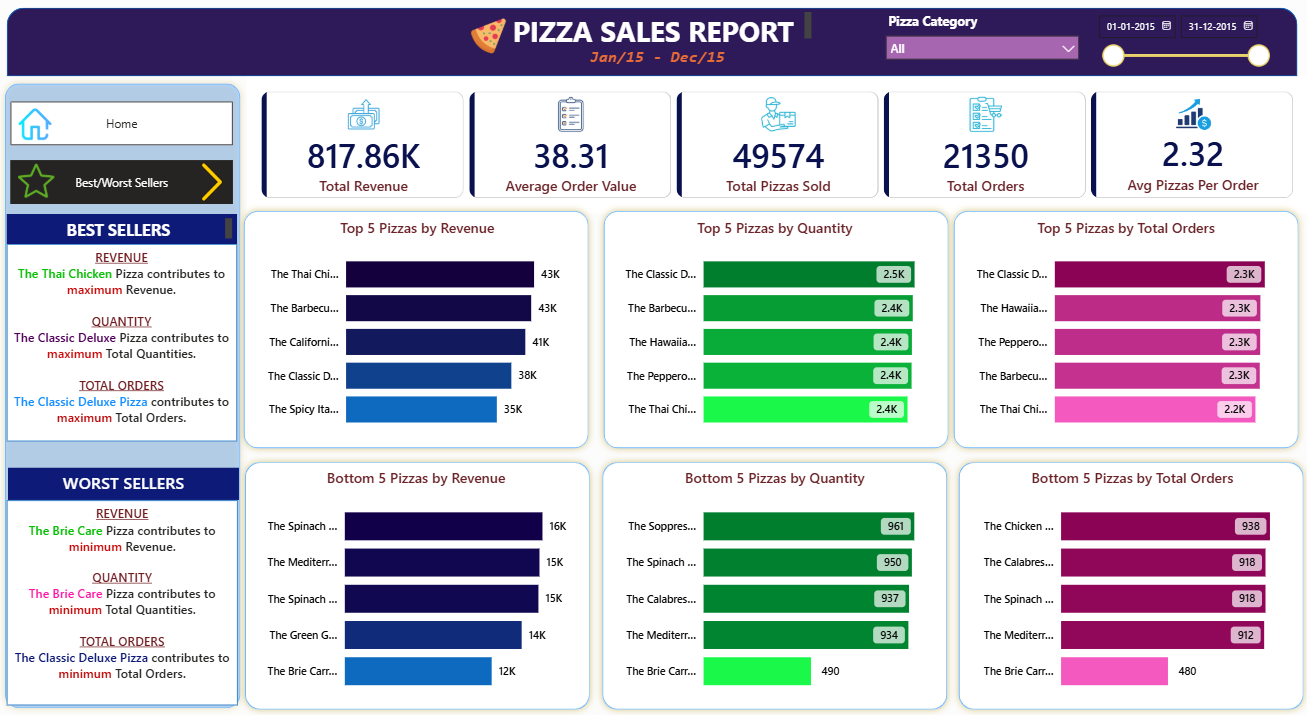

This screenshot's page, from the dashboard's own definition file:
{"tool":"powerbi","page":{"name":"Best/Worst Sellers","canvas":[1500,820],"ordinal":1},"visuals":[{"type":"shape","box":[0,88.3,285,730],"z":0},{"type":"cardVisual","fields":{"Data":["pizza_sales.Total Revenue","pizza_sales.Average Order Value","pizza_sales.Total Pizzas Sold","pizza_sales.Total Orders","pizza_sales.Avg Pizzas Per Order"]},"box":[284.4,88.9,1215.6,156.7],"z":1000},{"type":"shape","box":[10,10,1475,78.3],"z":2000},{"type":"textbox","box":[572.9,10,361.4,45.7],"z":3000},{"type":"textbox","box":[662.9,50,181.4,31.4],"z":4000},{"type":"image","box":[535.7,21.4,50,41.4],"z":5000},{"type":"shape","box":[272.9,234.3,410,287.1],"z":6000},{"type":"textbox","box":[10,245.7,262.9,34.3],"z":16000},{"type":"textbox","box":[10,280,262.9,225.7],"z":17000},{"type":"textbox","box":[11.4,535.7,264.3,37.1],"z":18000},{"type":"textbox","box":[10,572.9,264.3,234.3],"z":19000},{"type":"slicer","fields":{"Values":["pizza_sales.pizza_category"]},"box":[1004.3,10,241.4,71.4],"z":20000},{"type":"slicer","fields":{"Values":["pizza_sales.order_date"]},"box":[1245.7,8.6,215.7,80],"z":21000},{"type":"shape","box":[684.3,234.3,410,287.1],"z":21001},{"type":"shape","box":[1084.3,234.3,410,287.1],"z":21002},{"type":"shape","box":[274.3,521.4,410,298.6],"z":21003},{"type":"shape","box":[682.9,521.4,410,298.6],"z":21004},{"type":"shape","box":[1090,521.4,410,298.6],"z":21005},{"type":"barChart","title":"Top 5 Pizzas by Revenue","fields":{"Category":["pizza_sales.pizza_name"],"Y":["pizza_sales.Total Revenue"]},"box":[290,250,378.6,255.7],"z":21006},{"type":"barChart","title":"Bottom 5 Pizzas by Revenue","fields":{"Category":["pizza_sales.pizza_name"],"Y":["pizza_sales.Total Revenue"]},"box":[288.6,535.7,378.6,271.4],"z":21007},{"type":"barChart","title":"Top 5 Pizzas by Quantity","fields":{"Category":["pizza_sales.pizza_name"],"Y":["pizza_sales.Total Pizzas Sold"]},"box":[698.6,250,378.6,255.7],"z":21008},{"type":"barChart","title":"Bottom 5 Pizzas by Quantity","fields":{"Category":["pizza_sales.pizza_name"],"Y":["pizza_sales.Total Pizzas Sold"]},"box":[698.6,535.7,378.6,271.4],"z":21009},{"type":"barChart","title":"Top 5 Pizzas by Total Orders","fields":{"Category":["pizza_sales.pizza_name"],"Y":["pizza_sales.Total Orders"]},"box":[1100,250,378.6,255.7],"z":21010},{"type":"barChart","title":"Bottom 5 Pizzas by Total Orders","fields":{"Category":["pizza_sales.pizza_name"],"Y":["pizza_sales.Total Orders"]},"box":[1107.1,535.7,378.6,271.4],"z":21011},{"type":"pageNavigator","box":[14.3,184.3,254.3,50],"z":21012},{"type":"pageNavigator","box":[14.3,117.1,254.3,50],"z":21013},{"type":"image","box":[221.2,187.5,46.2,43.8],"z":21014},{"type":"image","box":[17.5,123.8,50,37.5],"z":21015},{"type":"image","box":[22.5,186.2,41.2,43.8],"z":21016}]}

Visuals, with their boxes in screenshot pixels (x1, y1, x2, y2), scaled from the page's 1500x820 canvas onto the 1307x715 screenshot:
shape: 0:77:248:714
cardVisual - pizza_sales.Total Revenue x pizza_sales.Average Order Value: 248:78:1306:214
shape: 9:9:1294:77
textbox: 499:9:814:49
textbox: 578:44:736:71
image: 467:19:510:55
shape: 238:204:595:455
textbox: 9:214:238:244
textbox: 9:244:238:441
textbox: 10:467:240:499
textbox: 9:500:239:704
slicer - pizza_sales.pizza_category: 875:9:1085:71
slicer - pizza_sales.order_date: 1085:7:1273:77
shape: 596:204:954:455
shape: 945:204:1302:455
shape: 239:455:596:714
shape: 595:455:952:714
shape: 950:455:1306:714
"Top 5 Pizzas by Revenue" barChart: 253:218:583:441
"Bottom 5 Pizzas by Revenue" barChart: 251:467:581:704
"Top 5 Pizzas by Quantity" barChart: 609:218:939:441
"Bottom 5 Pizzas by Quantity" barChart: 609:467:939:704
"Top 5 Pizzas by Total Orders" barChart: 958:218:1288:441
"Bottom 5 Pizzas by Total Orders" barChart: 965:467:1295:704
pageNavigator: 12:161:234:204
pageNavigator: 12:102:234:146
image: 193:163:233:202
image: 15:108:59:141
image: 20:162:56:201
